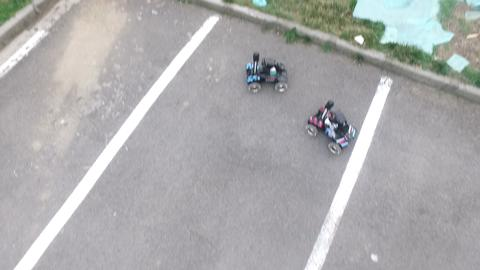chariot: (303, 85, 362, 156), (242, 49, 297, 98)
